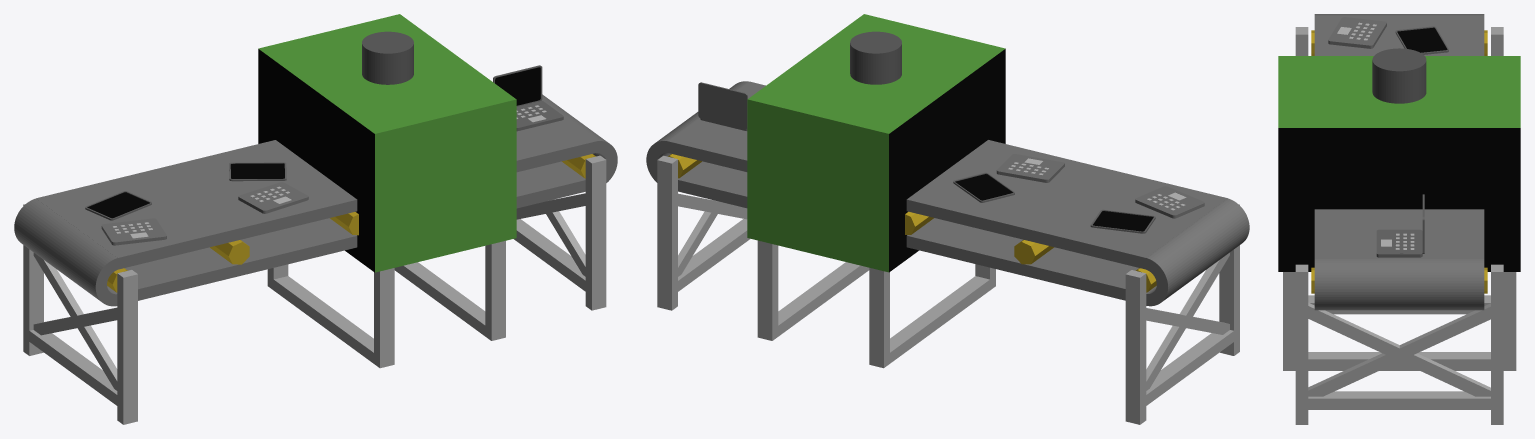
File: general3.glb
3 views of the same model, side by side, from view 1: azimuth 30°, elevation 25°; view 2: azimuth 150°, elevation 25°; view 3: azimuth 270°, elevation 25° (orthographic). The views are drawn at different scales.
Parts seen in each view (by area): view 1: machine, belt_sup, machine.002, belt_inf.001, belt_end, foot2.001, foot2, Cylindre, foot3.002, computer1, foot3.003, foot2.002 (+14 smaller); view 2: machine, belt_sup, machine.002, belt_inf.001, belt_end, foot1, foot1.001, Cylindre, foot3.002, foot2.006, foot3.003, foot2.003 (+14 smaller); view 3: machine.001, machine, belt_sup, belt_start, foot3.001, foot4.001, Cylindre, foot5.001, foot3.003, foot2.001, foot1.001, computer1 (+8 smaller).
Part boxes in pixels (x1,y1,x2,y2): machine: (258,14,516,272); belt_sup: (36,118,595,269); machine.002: (258,49,374,272); belt_inf.001: (107,161,585,300); belt_end: (14,198,117,306); foot2.001: (585,155,606,310); foot2: (117,270,137,424); Cylindre: (362,31,413,84); foot3.002: (273,276,373,363); computer1: (493,65,563,131); foot3.003: (394,262,485,336); foot2.002: (374,268,394,368); machine: (747,14,1005,272); belt_sup: (668,81,1227,269); machine.002: (889,49,1005,272); belt_inf.001: (678,161,1156,300); belt_end: (1146,198,1249,306); foot1: (1125,270,1146,424); foot1.001: (657,155,677,310); Cylindre: (850,31,901,84); foot3.002: (890,276,989,363); foot2.006: (757,240,778,340); foot3.003: (778,262,869,336); foot2.003: (869,268,889,368); machine.001: (1278,128,1520,271); machine: (1278,56,1520,127); belt_sup: (1314,16,1484,258); belt_start: (1314,258,1484,310); foot3.001: (1307,391,1491,409); foot4.001: (1308,303,1490,396); Cylindre: (1372,48,1426,103); foot5.001: (1308,302,1490,396); foot3.003: (1308,352,1490,370); foot2.001: (1295,264,1308,424); foot1.001: (1491,264,1503,424); computer1: (1376,194,1424,257).
Size of the model in its own units: 4.5 by 2.22 by 1.74.
